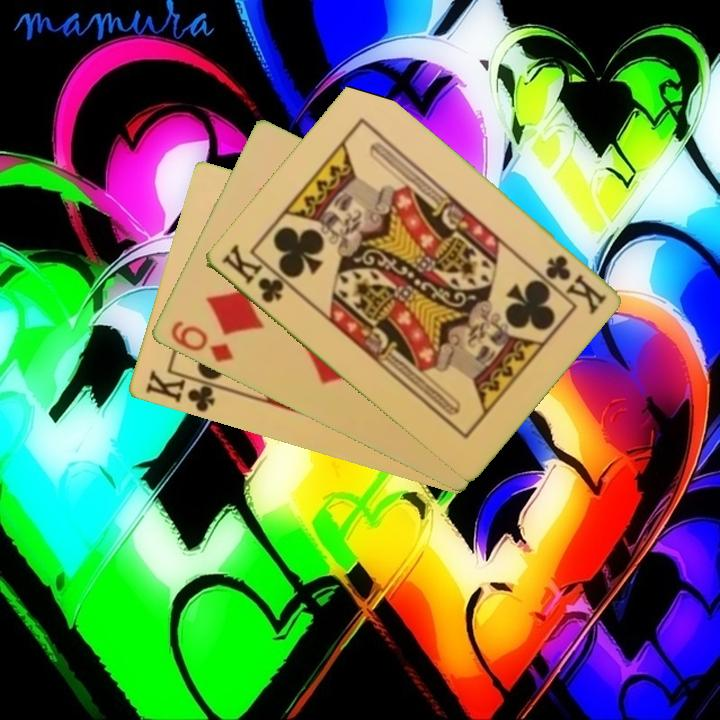6d: (166, 317, 235, 366)
Kc: (217, 241, 287, 307), (541, 251, 609, 315), (141, 366, 225, 416)
